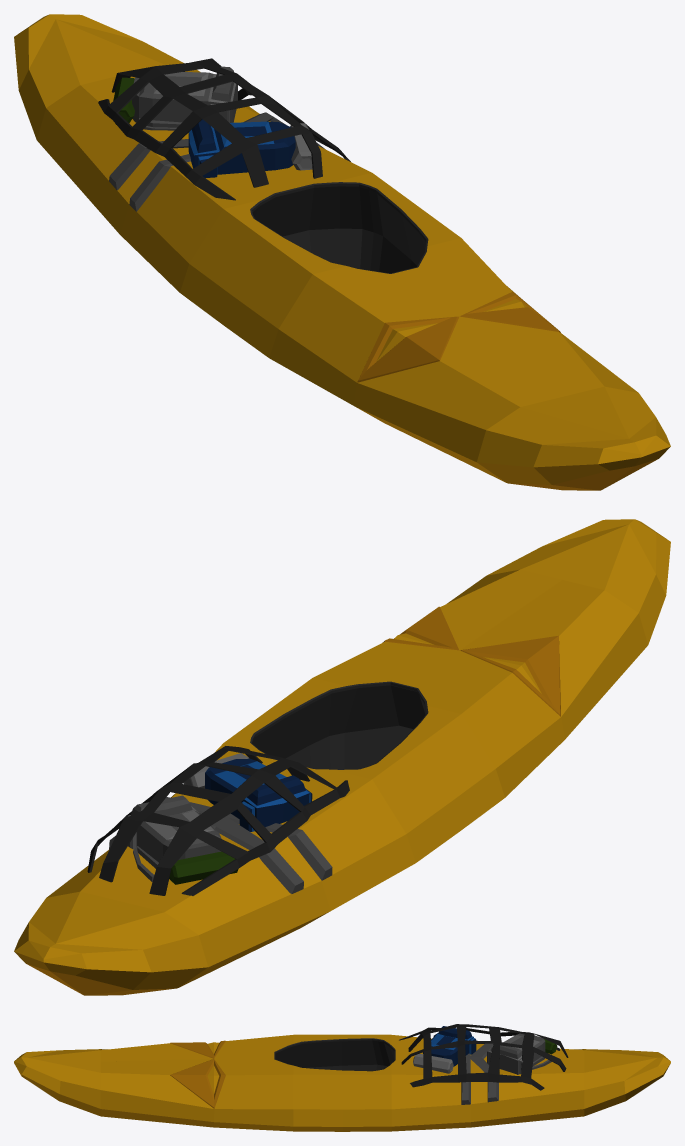
File: KayakV2.glb
3 views of the same model, one above another, from view 1: azimuth 30°, elevation 25°; view 2: azimuth 150°, elevation 25°; view 3: azimuth 270°, elevation 25° (orthographic). The views are drawn at different scales.
Parts seen in each view (by area): view 1: KayakV2; view 2: KayakV2; view 3: KayakV2.
Boxes of the visible parts, x1,y1,x2,y2 form: KayakV2: (14, 14, 670, 490); KayakV2: (14, 519, 670, 995); KayakV2: (14, 1024, 670, 1131).
Bounding box in the file's own units: 1.12 × 0.7217 × 4.92.
Materials: 1 (1 with a texture image).
